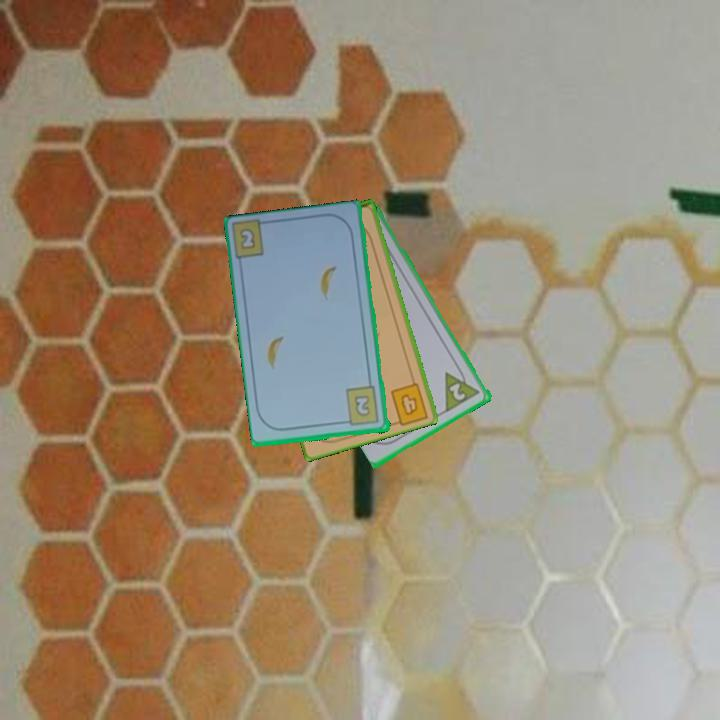2b: (340, 384, 382, 429), (236, 225, 259, 253)
2p: (446, 379, 469, 404)
4b: (398, 390, 421, 419)
